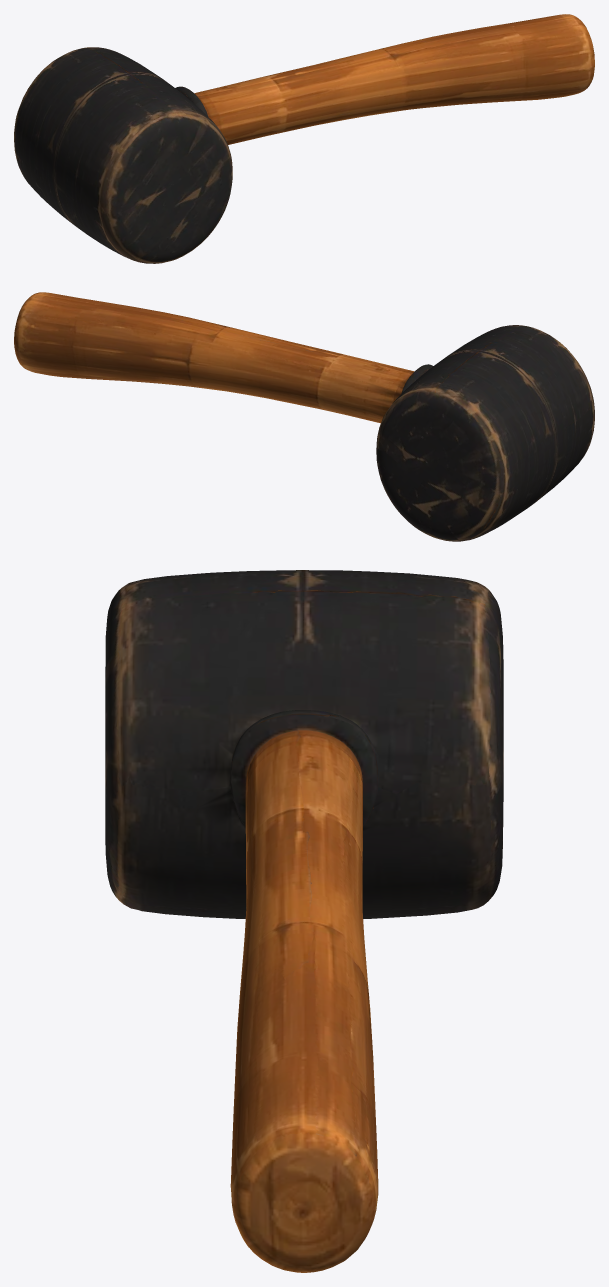
Rendered from d_mallet.glb.
The picture shows the model from 3 angles, top to bottom: view 1: azimuth 30°, elevation 25°; view 2: azimuth 150°, elevation 25°; view 3: azimuth 270°, elevation 25°; orthographic projection. The views are drawn at different scales.
Bounding box in the file's own units: 1.9 × 0.5527 × 0.6205.
1 material, 1 textured.
